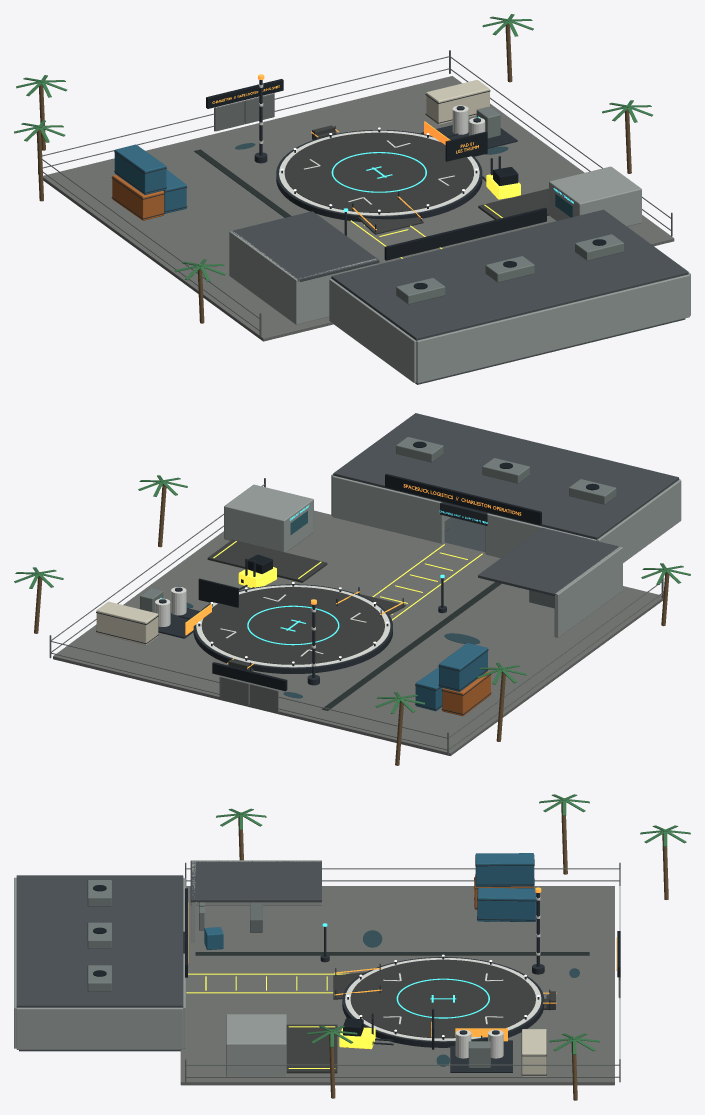
The model's file is charleston-operations-yard-greybox.glb.
3 views of the same model, one above another, from view 1: azimuth 30°, elevation 25°; view 2: azimuth 150°, elevation 25°; view 3: azimuth 270°, elevation 25° (orthographic). The views are drawn at different scales.
Parts seen in each view (by area): view 1: GEO_YardSlab, GEO_OperationsRoof, GEO_OperationsWallSouth, GEO_Pad01Deck, GEO_MaintenanceRoof, GEO_OperationsWallWest, GEO_CargoBankBooth, GEO_MaintenanceBack, GEO_CompanySignBacker, PROP_ContainerBlueB, PROP_ContainerCreamA, GEO_Pad01Foundation (+15 smaller); view 2: GEO_YardSlab, GEO_OperationsRoof, GEO_Pad01Deck, GEO_MaintenanceRoof, GEO_OperationsFrontEast, GEO_CargoBankBooth, GEO_MaintenanceBack, GEO_OperationsWallWest, GEO_CompanySignBacker, GEO_CargoScale, PROP_ContainerCreamA, GEO_Pad01Foundation (+17 smaller); view 3: GEO_YardSlab, GEO_OperationsRoof, GEO_Pad01Deck, GEO_OperationsWallEast, GEO_MaintenanceRoof, GEO_CargoBankBooth, GEO_CargoScale, PROP_ContainerBlueB, PROP_ContainerBlueA, GEO_DrainChannel, GEO_Pad01Foundation, GEO_Pad01WhiteRim (+13 smaller).
Boxes of the visible parts, <box> form: GEO_YardSlab: <box>43,76,674,341</box>; GEO_OperationsRoof: <box>331,209,688,340</box>; GEO_OperationsWallSouth: <box>416,274,689,383</box>; GEO_Pad01Deck: <box>284,132,473,212</box>; GEO_MaintenanceRoof: <box>231,211,379,281</box>; GEO_OperationsWallWest: <box>329,278,416,382</box>; GEO_CargoBankBooth: <box>549,166,641,226</box>; GEO_MaintenanceBack: <box>229,230,299,324</box>; GEO_CompanySignBacker: <box>384,207,546,260</box>; PROP_ContainerBlueB: <box>114,144,166,194</box>; PROP_ContainerCreamA: <box>426,80,489,124</box>; GEO_Pad01Foundation: <box>276,130,482,221</box>; GEO_YardSlab: <box>53,510,663,755</box>; GEO_OperationsRoof: <box>333,413,678,539</box>; GEO_Pad01Deck: <box>201,587,384,664</box>; GEO_MaintenanceRoof: <box>478,528,619,596</box>; GEO_OperationsFrontEast: <box>332,476,444,543</box>; GEO_CargoBankBooth: <box>224,484,313,552</box>; GEO_MaintenanceBack: <box>554,546,622,637</box>; GEO_OperationsWallWest: <box>596,480,681,562</box>; GEO_CompanySignBacker: <box>385,474,541,524</box>; GEO_CargoScale: <box>207,539,327,582</box>; PROP_ContainerCreamA: <box>96,601,158,645</box>; GEO_Pad01Foundation: <box>193,584,392,673</box>; GEO_YardSlab: <box>180,886,614,1085</box>; GEO_OperationsRoof: <box>16,875,183,1007</box>; GEO_Pad01Deck: <box>350,959,535,1038</box>; GEO_OperationsWallEast: <box>16,1007,183,1049</box>; GEO_MaintenanceRoof: <box>190,861,321,902</box>; GEO_CargoBankBooth: <box>226,1014,286,1076</box>; GEO_CargoScale: <box>286,1024,337,1073</box>; PROP_ContainerBlueB: <box>475,853,534,886</box>; PROP_ContainerBlueA: <box>477,887,536,921</box>; GEO_DrainChannel: <box>195,952,589,955</box>; GEO_Pad01Foundation: <box>342,957,544,1047</box>; GEO_Pad01WhiteRim: <box>345,957,541,1041</box>.
Bounding box in the file's own units: 58.42 × 9.49 × 67.02.
